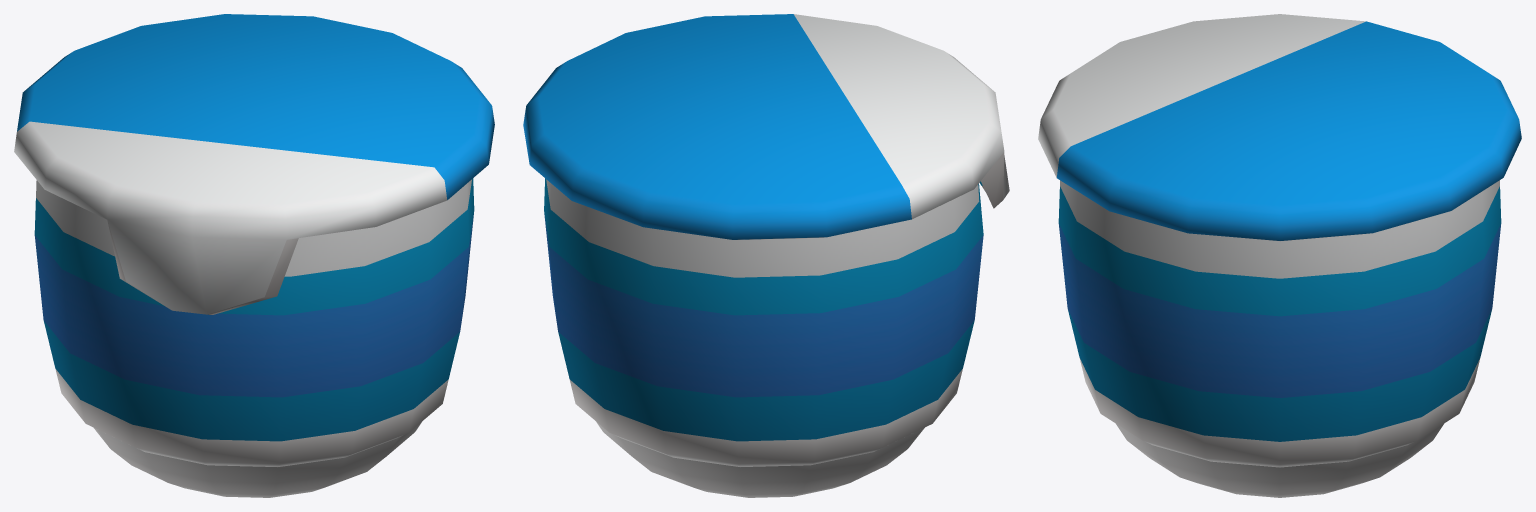
File: Sour_Cream_002.fbx
3 views of the same model, side by side, from view 1: azimuth 30°, elevation 25°; view 2: azimuth 150°, elevation 25°; view 3: azimuth 270°, elevation 25° (orthographic).
Visible parts, largest first — view 1: Sour_Cream_002; view 2: Sour_Cream_002; view 3: Sour_Cream_002.
Boxes of the visible parts, bbox=[...] form: Sour_Cream_002: bbox=[14, 14, 494, 497]; Sour_Cream_002: bbox=[523, 14, 1009, 497]; Sour_Cream_002: bbox=[1038, 14, 1521, 497].
Size of the model in its own units: 18.46 by 18.46 by 14.32.
